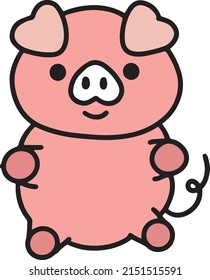animal: (13, 6, 203, 246)
